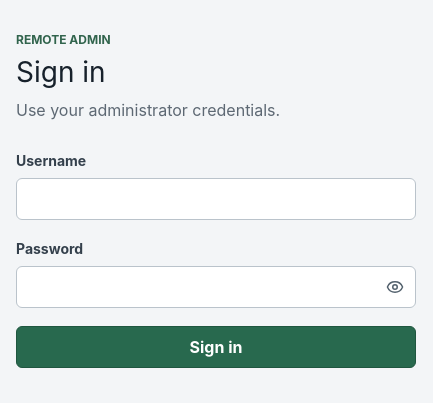
LoginView › renders the login failure and clears the password
This screenshot has width=433, height=403.
Step 1. Type "admin" into the field with id "username" → (216, 198), box [16,178,416,220]
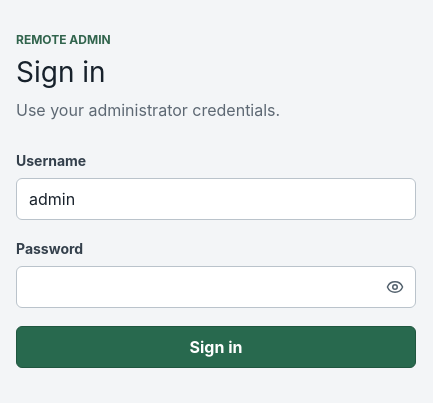
Step 2. Type "wrong" into the password field with id "login-password" → (216, 286), box [16,266,416,308]
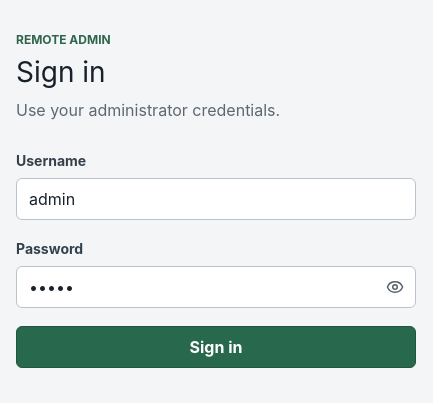
Step 3. Submit the form, box [16,150,416,368]
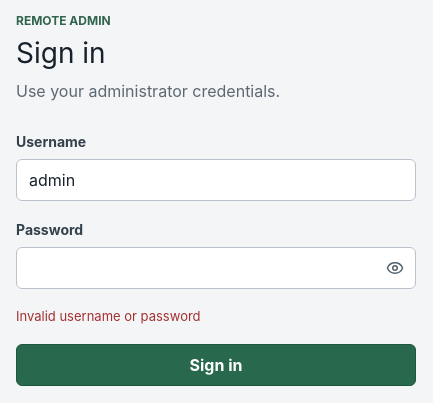
Check: the message "Invalid username or password" is shown, box [16,308,201,324]
Check: the password field with id "login-password" is empty, box [16,247,416,289]
